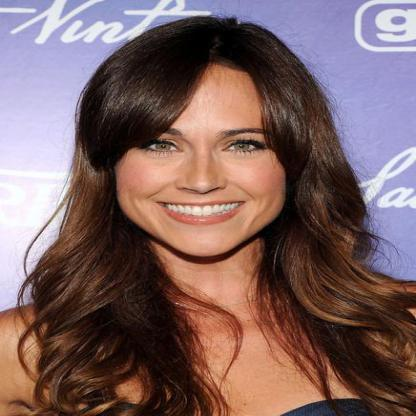long-hair: (20, 263, 392, 325)
